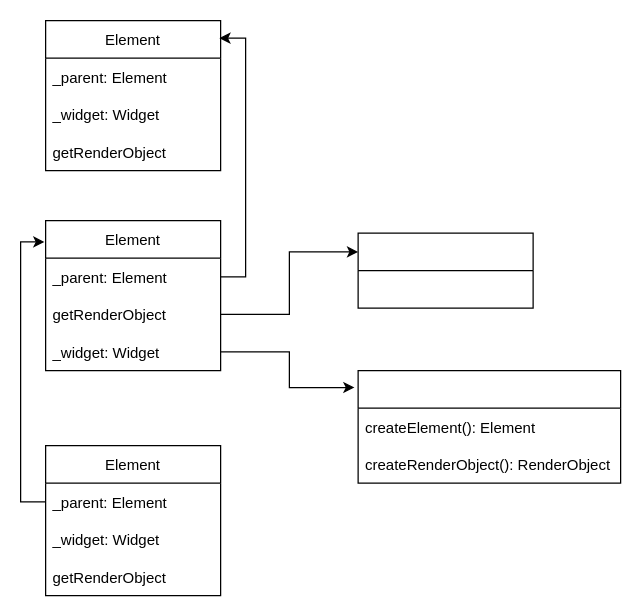
Image size: 641x616. Some labels were removed from this diagram. Here are the shapes that lost their labels. From the top down, the box of each, then its label:
(357, 232, 533, 308): RenderObject
(357, 369, 621, 483): Widget
